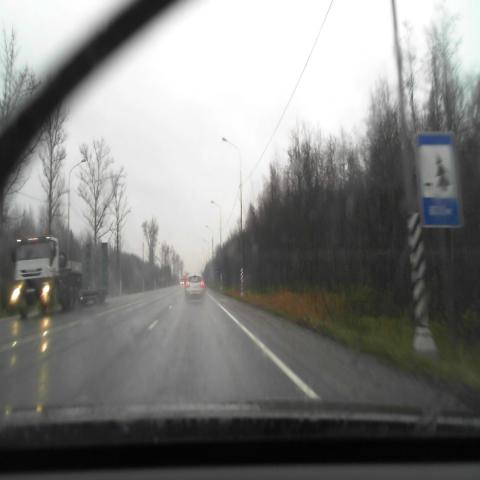7_11: (416, 132, 463, 227)
